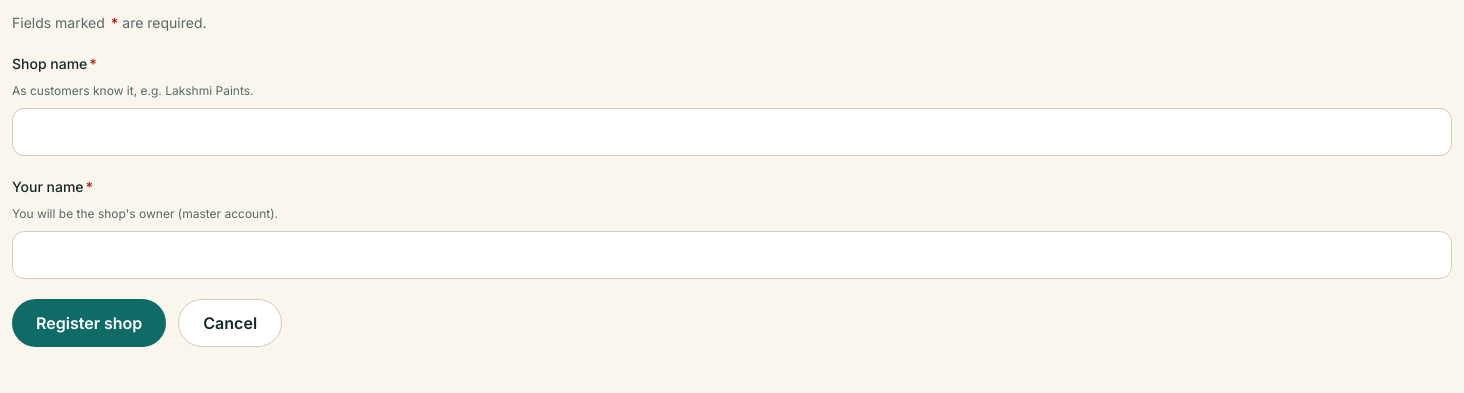
it: RegisterShopForm › shows field errors inline and keeps the typed values
Type "L" into the field labelled "Shop name".
click(732, 132); type("L")  # box [12, 108, 1452, 156]
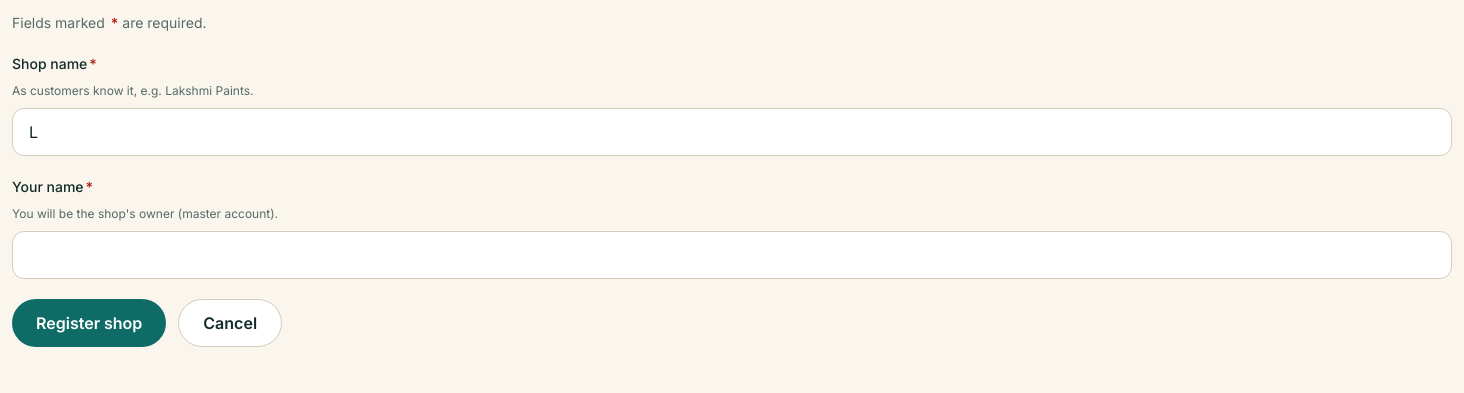
Type "Anil Kumar" into the field labelled "Your name".
click(732, 255); type("Anil Kumar")  # box [12, 231, 1452, 279]
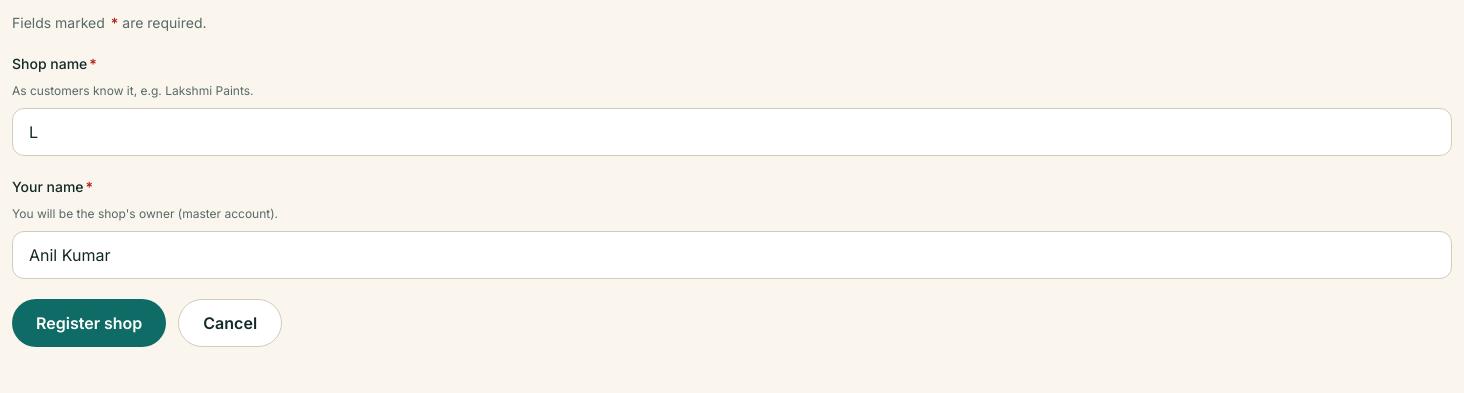
Click the button "Register shop".
click(89, 323)  # box [12, 299, 166, 347]
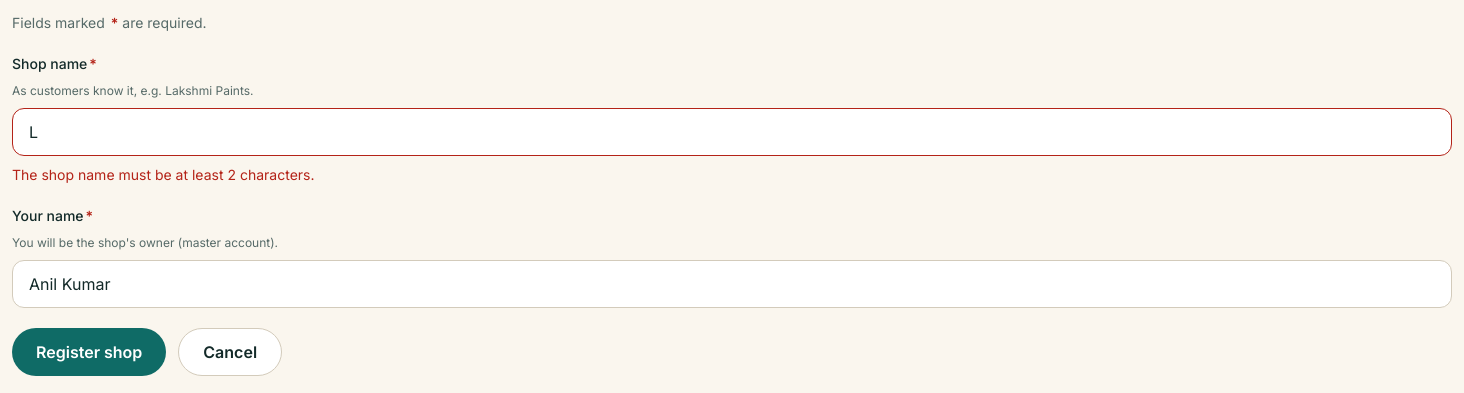
Now the text "The shop name must be at least 2 characters." is shown, box [12, 166, 314, 183]
